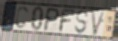0: (29, 6, 45, 33)
C: (14, 6, 30, 31)
F: (58, 8, 76, 35)
P: (42, 7, 61, 32)
S: (74, 9, 90, 36)
V: (90, 11, 106, 37)
